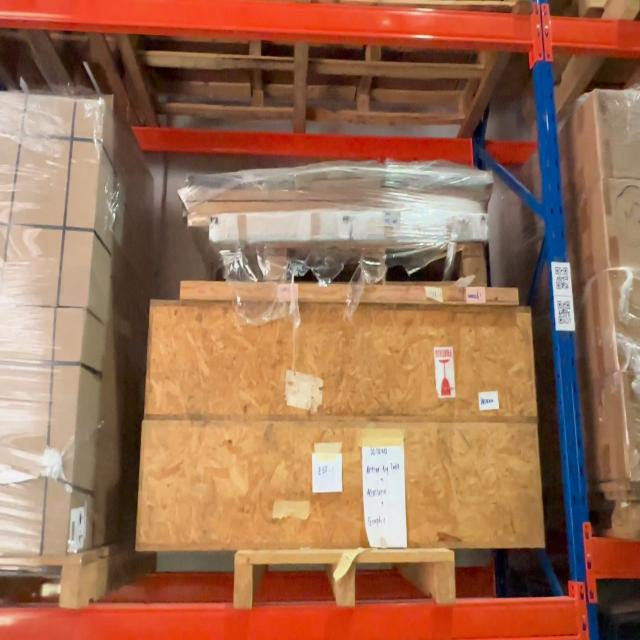box: (145, 421, 538, 542), (152, 307, 534, 416)
